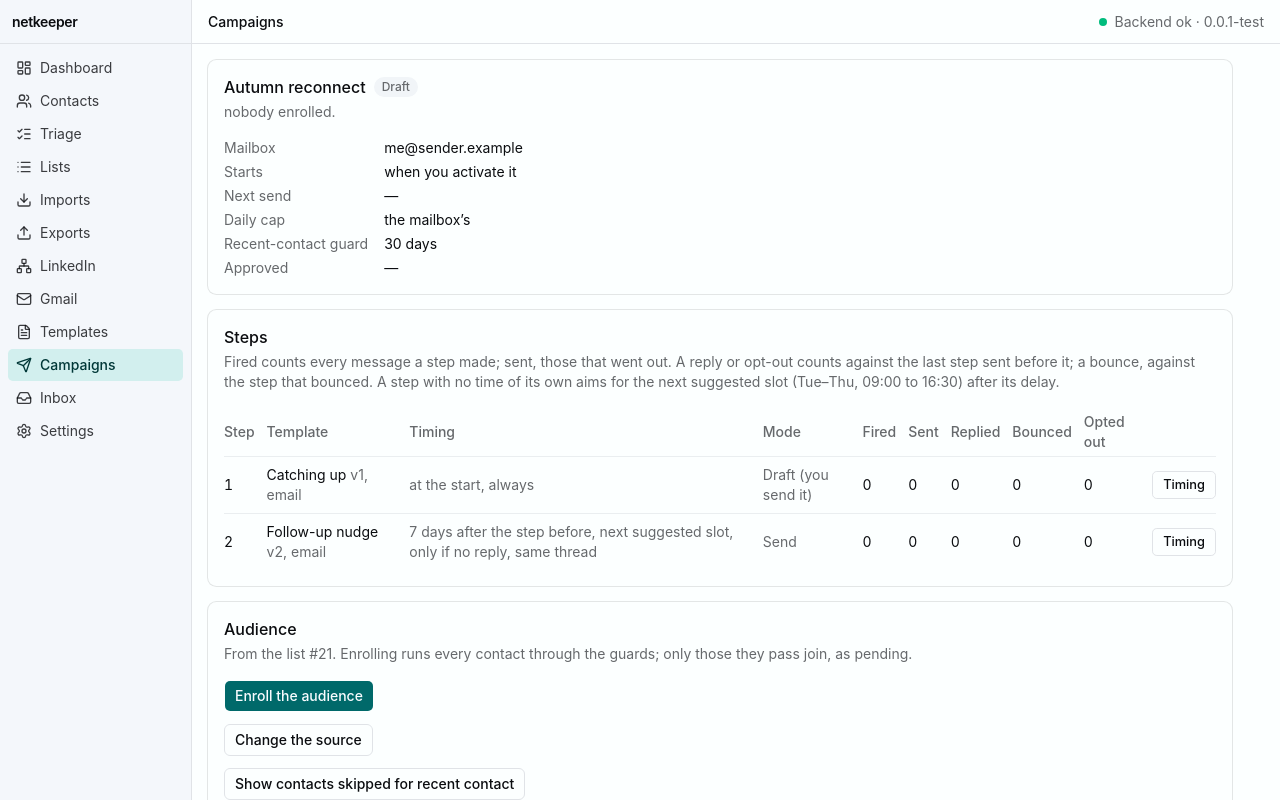
Test case: overriding the recent-contact guard (#446) › cancelling sends nothing
Check: the navigation bar named "Primary" is shown, box 0,44 -> 191,455
Click the button "Show contacts skipped for recent contact": (375, 784) 224,768 -> 525,799
(page scrolled)
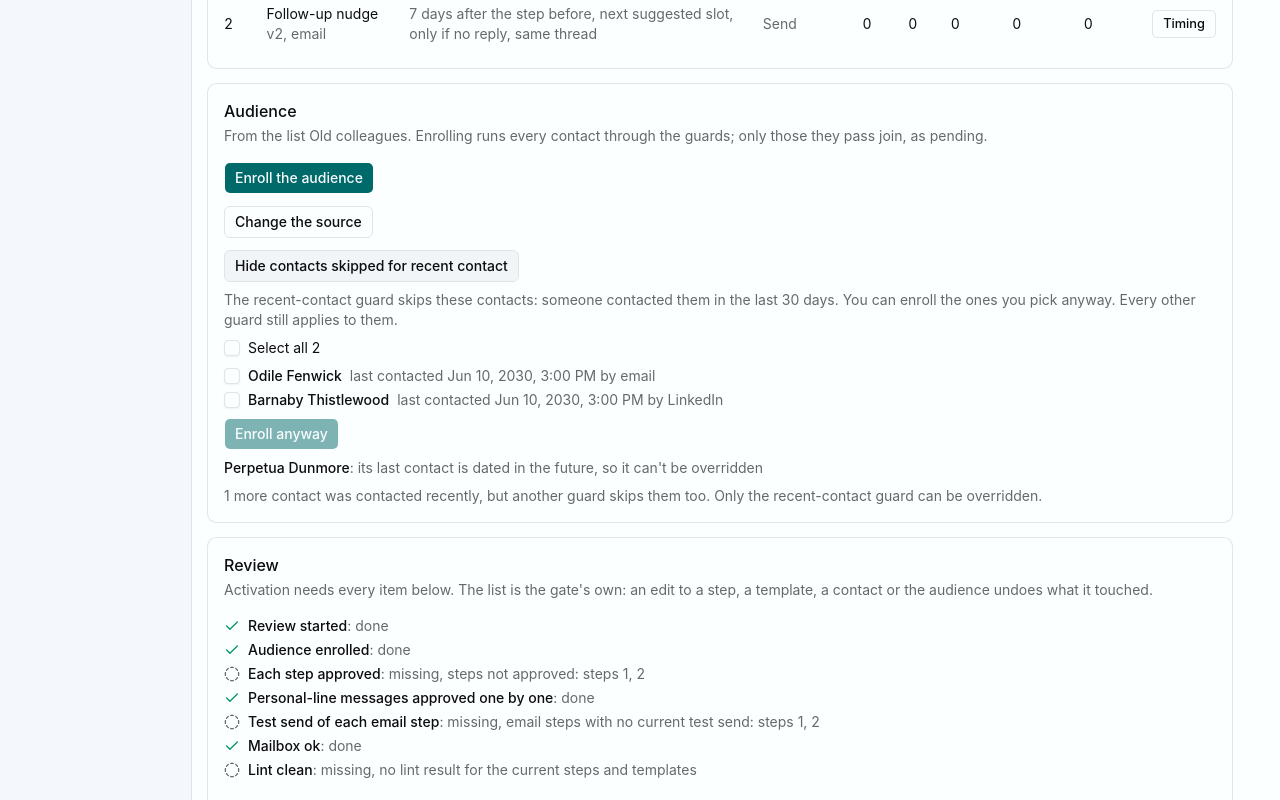
Click the checkbox named "Barnaby Thistlewood" next to "Barnaby Thistlewood": (232, 400) 224,392 -> 240,408
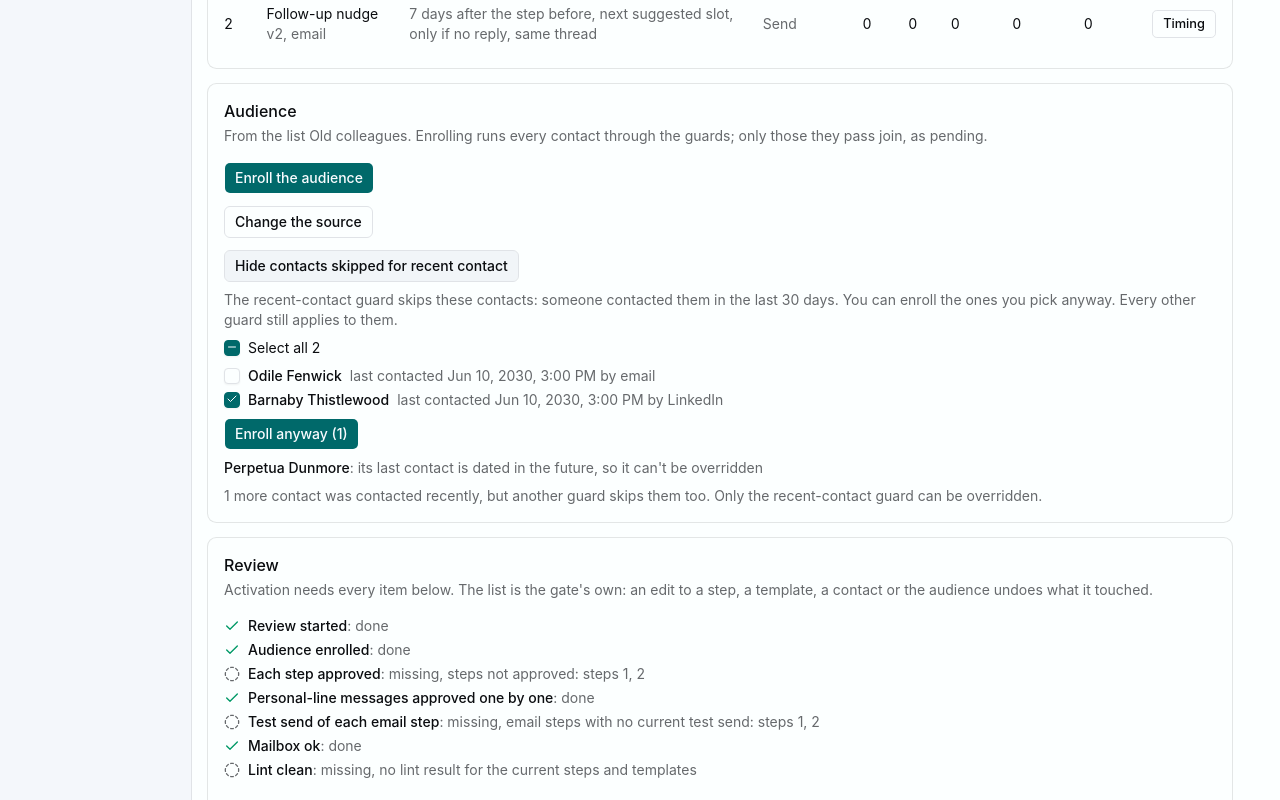
Click the button "Enroll anyway (1)": (291, 434) 224,418 -> 359,450
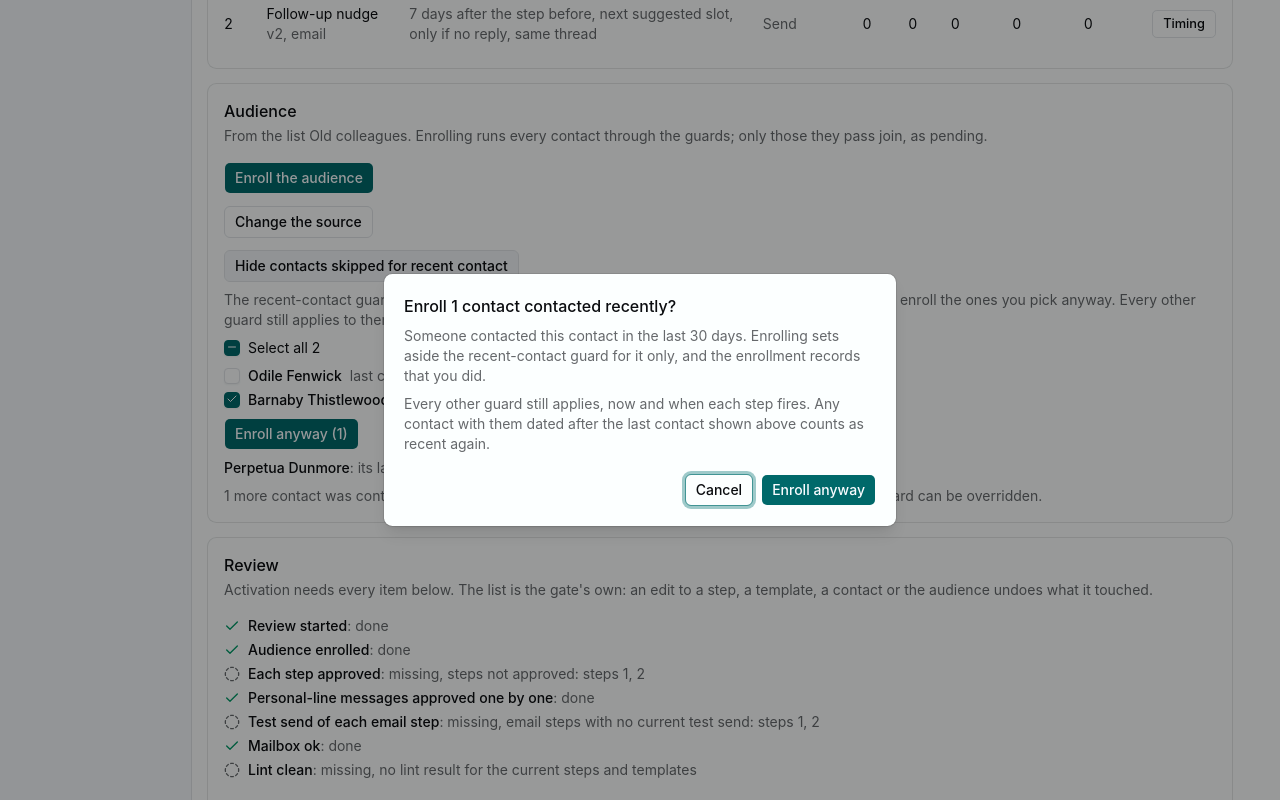
Click the button "Cancel": (719, 490) 685,474 -> 753,506
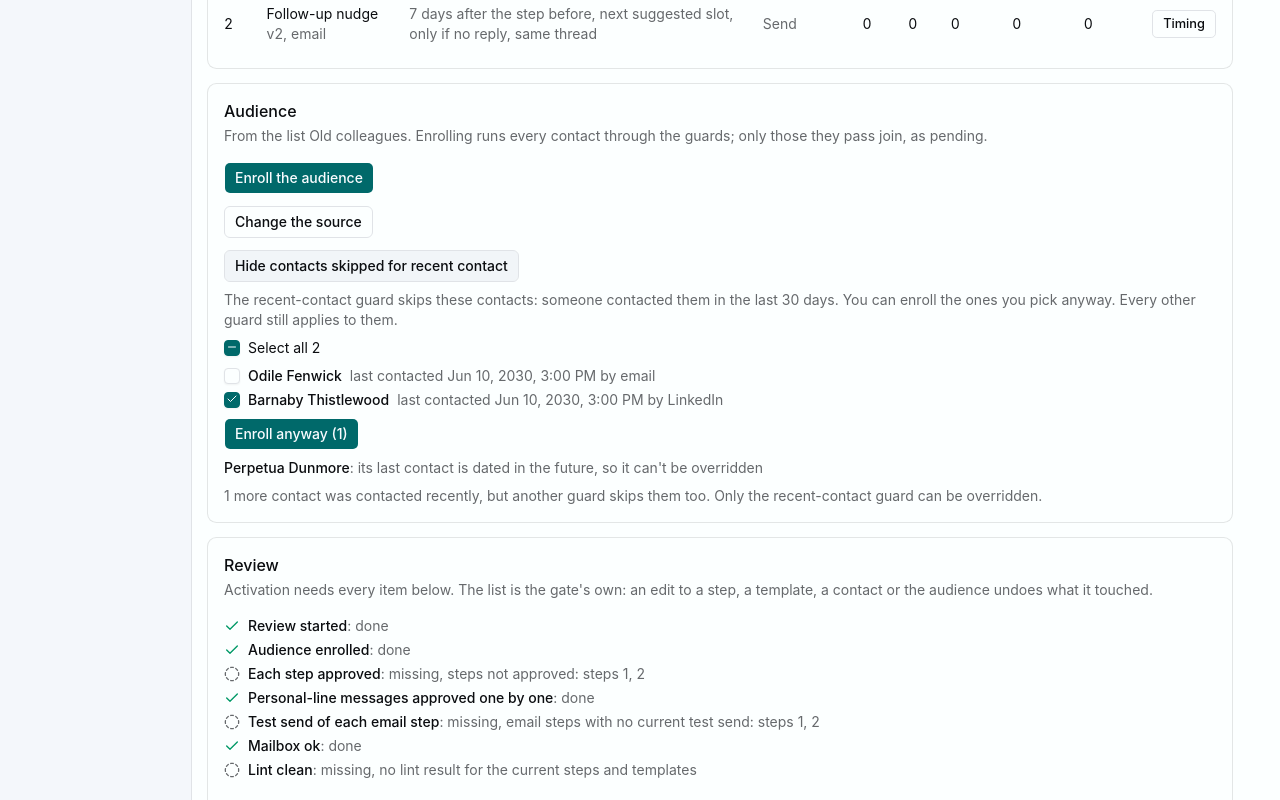
Check: the dialog is gone
